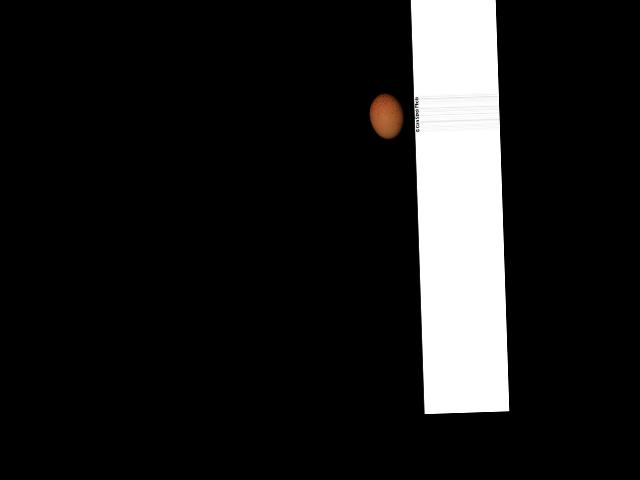egg: (369, 92, 405, 139)
